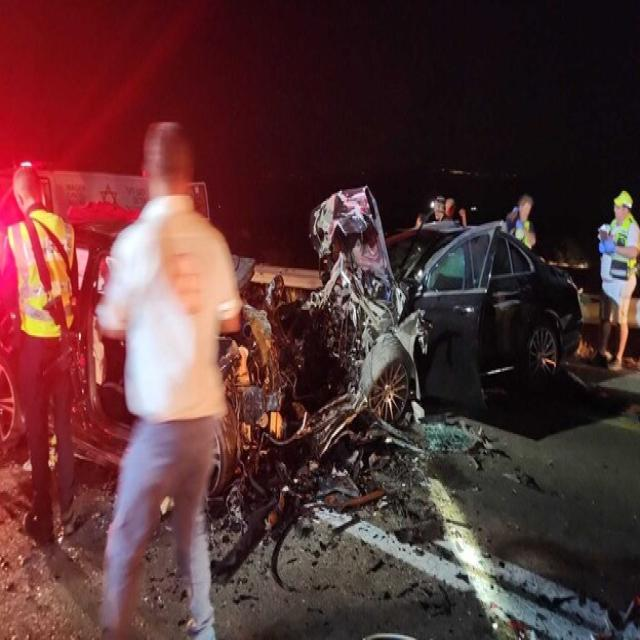Accident: (0, 185, 585, 532)
